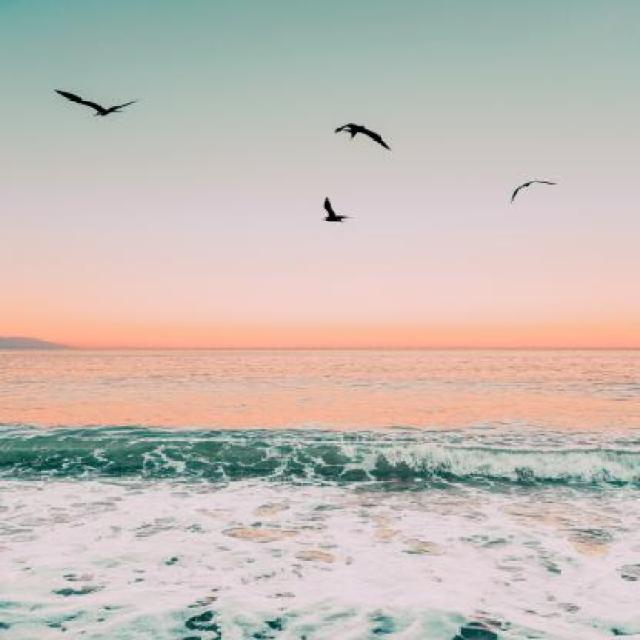bird: (55, 89, 139, 117), (335, 123, 393, 152), (509, 179, 557, 207), (322, 197, 355, 225)
